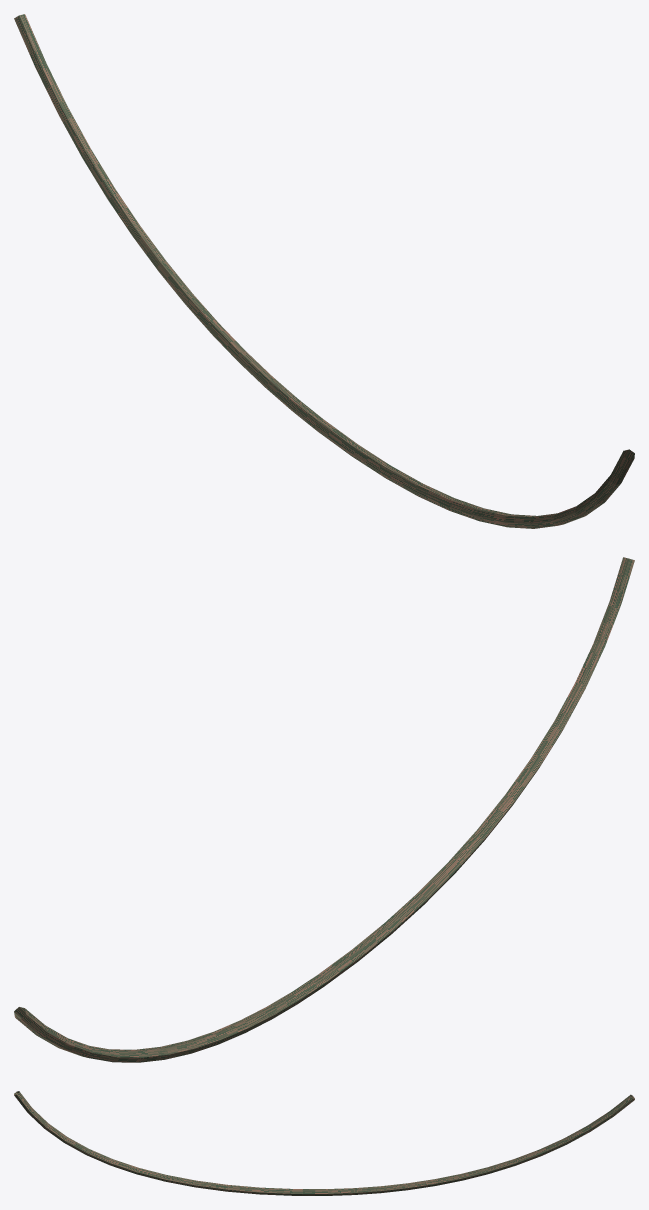
The model's file is wire_test.fbx.
3 views of the same model, one above another, from view 1: azimuth 30°, elevation 25°; view 2: azimuth 150°, elevation 25°; view 3: azimuth 270°, elevation 25° (orthographic). The views are drawn at different scales.
Visible parts, largest first — view 1: BézierCurve; view 2: BézierCurve; view 3: BézierCurve.
Boxes of the visible parts, x1,y1,x2,y2 form: BézierCurve: (14, 14, 634, 528); BézierCurve: (14, 557, 634, 1062); BézierCurve: (14, 1091, 634, 1195).
Bounding box in the file's own units: 10.43 × 164 × 892.
1 material, 1 textured.
